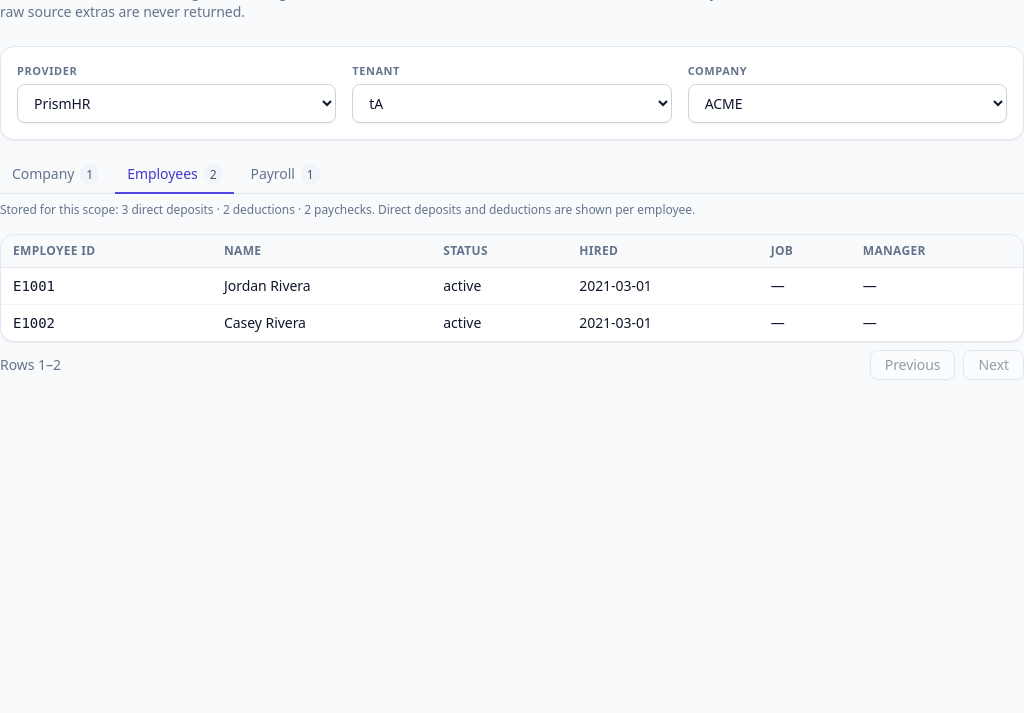
Test case: Data Explorer › browses payroll runs, their paychecks and the line items of one paycheck
Expected: the table with test id "employees-table" is shown, 1,234 -> 1023,340
Step 1. Click the tab "Payroll1" → (285, 174), box 238,156 -> 332,194
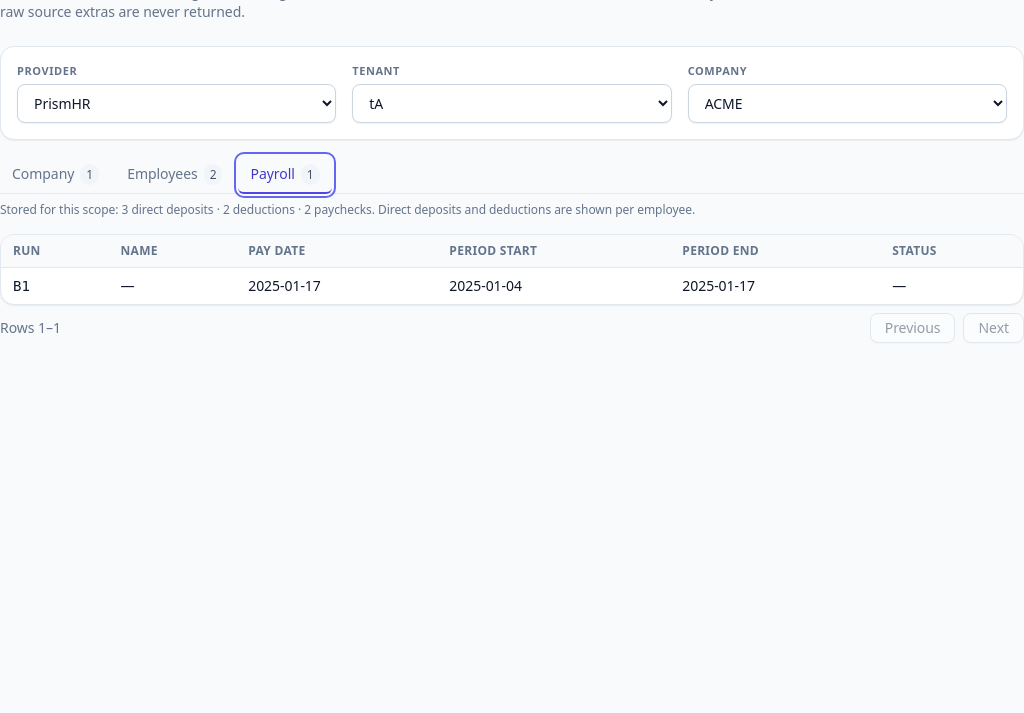
Step 2. Click the text "B1" → (21, 286), box 13,278 -> 30,294
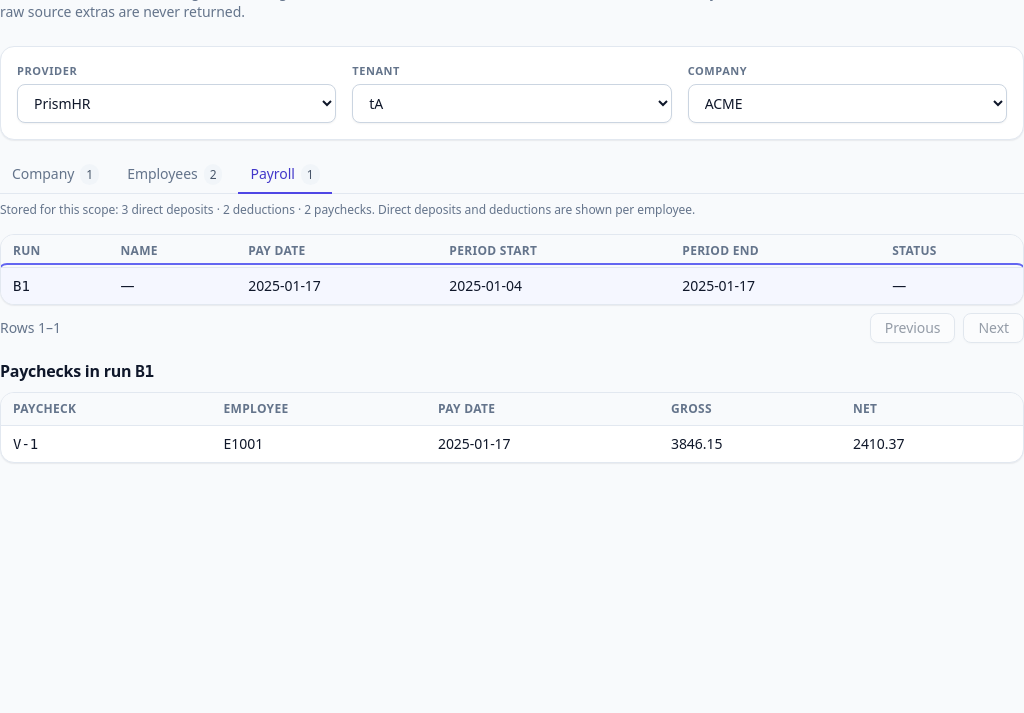
Step 3. Click the text "V-1" → (26, 444), box 13,436 -> 38,452
(page scrolled)
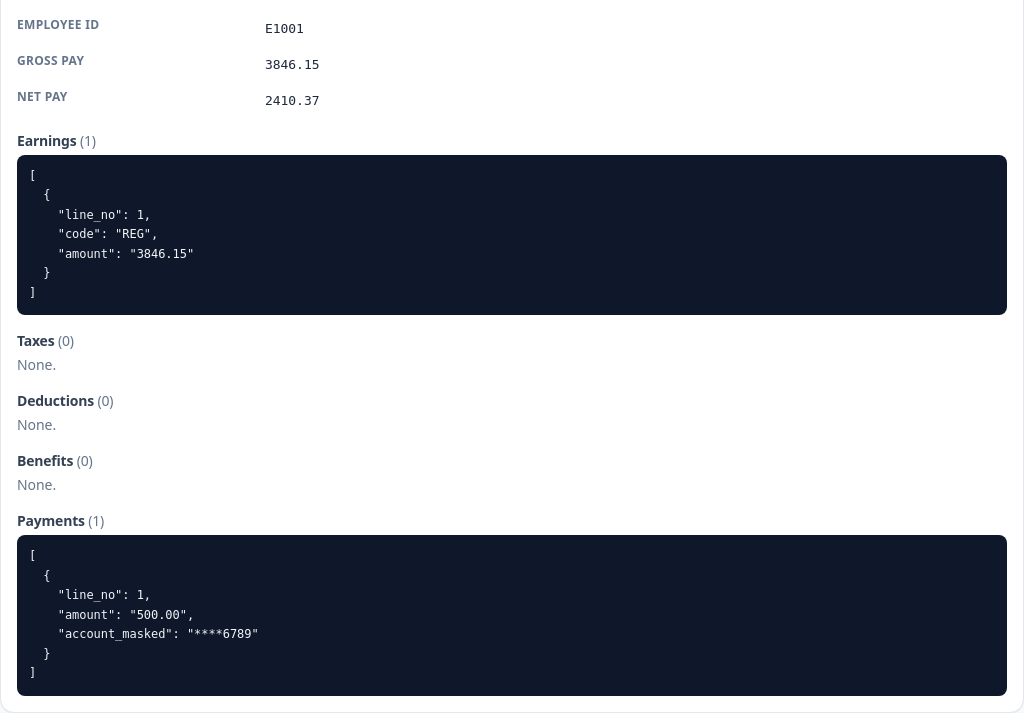
Now the text "2410.37" is shown, box 265,92 -> 320,108
Now the heading "earnings (1)" is shown, box 17,130 -> 96,150
Now the text "[ { \"line_no\": 1, \"code\": \"REG\", \"amount\": \"3846.15\" } ]" is shown, box 17,154 -> 1007,315
